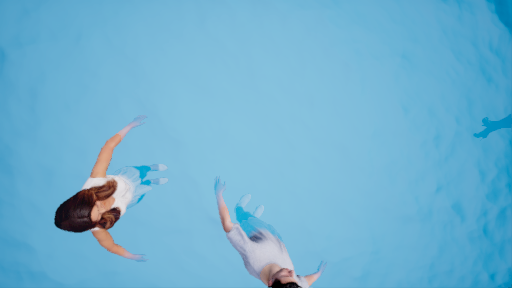person: (37, 116, 192, 260), (206, 179, 321, 288)
